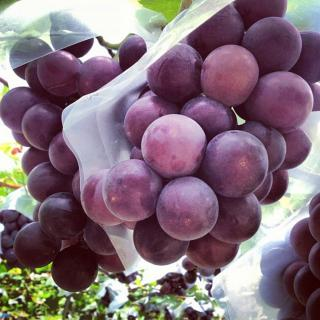Grape: (0, 0, 319, 291), (258, 193, 320, 320), (154, 260, 214, 296), (0, 209, 30, 265)
